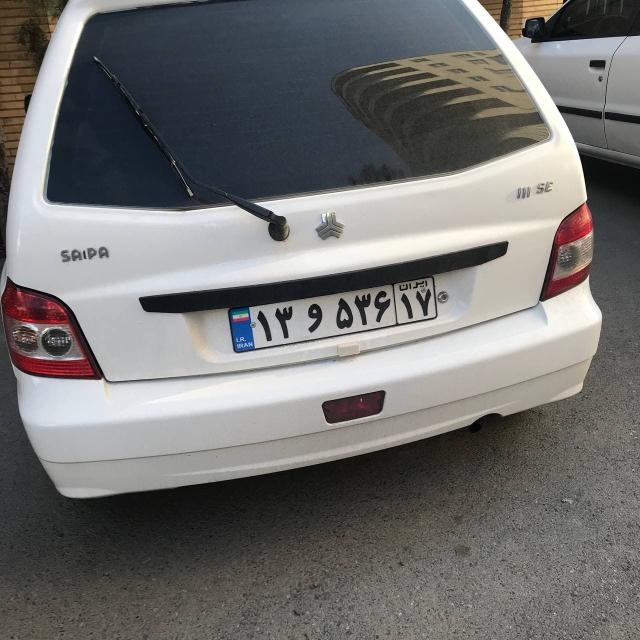Plates: (227, 273, 440, 353)
